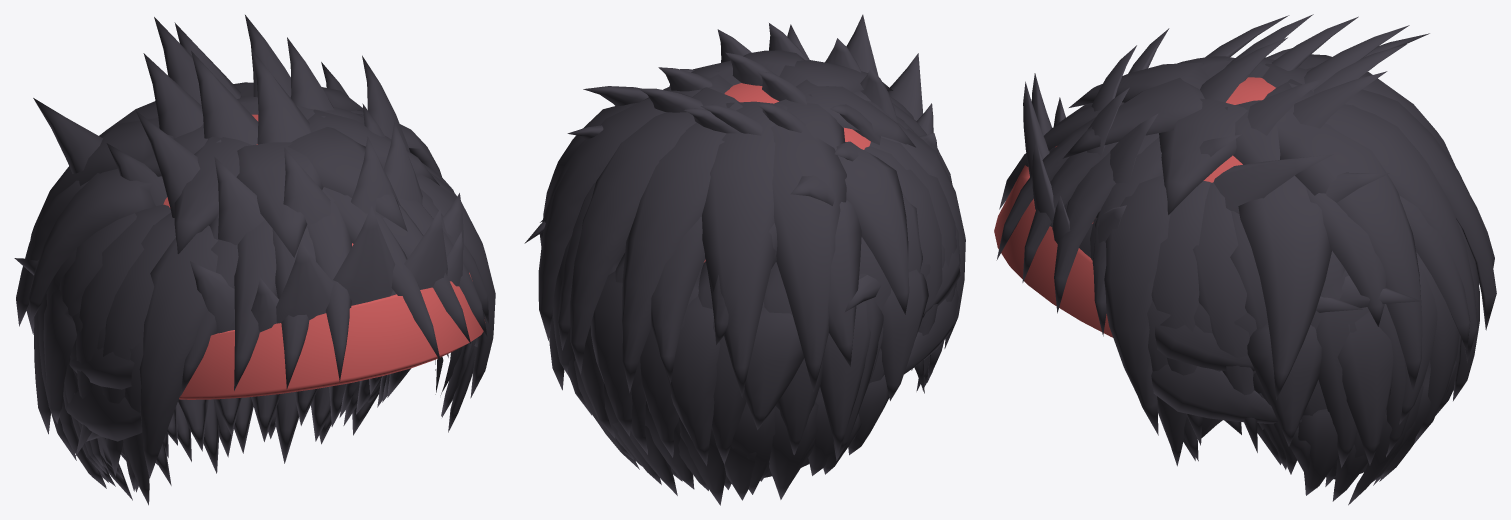
File: hair-v3r5.glb
3 views of the same model, side by side, from view 1: azimuth 30°, elevation 25°; view 2: azimuth 150°, elevation 25°; view 3: azimuth 270°, elevation 25° (orthographic). The views are drawn at different scales.
Visible parts, largest first — view 1: hair_mid, hair_spiky, hair_beanie; view 2: hair_mid, hair_spiky, hair_beanie; view 3: hair_mid, hair_spiky, hair_beanie.
Boxes of the visible parts, x1,y1,x2,y2 form: hair_mid: [26, 82, 495, 505]; hair_spiky: [14, 15, 479, 491]; hair_beanie: [90, 114, 485, 492]; hair_mid: [538, 50, 965, 505]; hair_spiky: [524, 14, 960, 500]; hair_beanie: [670, 83, 917, 489]; hair_mid: [996, 54, 1496, 505]; hair_spiky: [1023, 14, 1494, 501]; hair_beanie: [994, 77, 1336, 486].
Size of the model in its own units: 0.2161 by 0.2285 by 0.2337.
